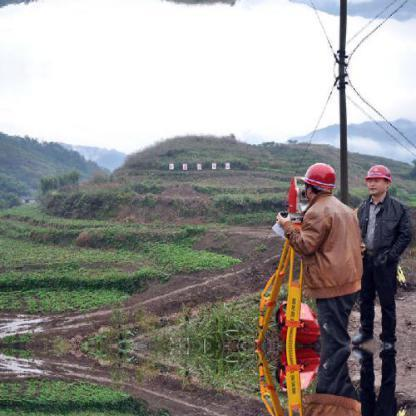helmet: (295, 161, 341, 197), (358, 159, 393, 186)
